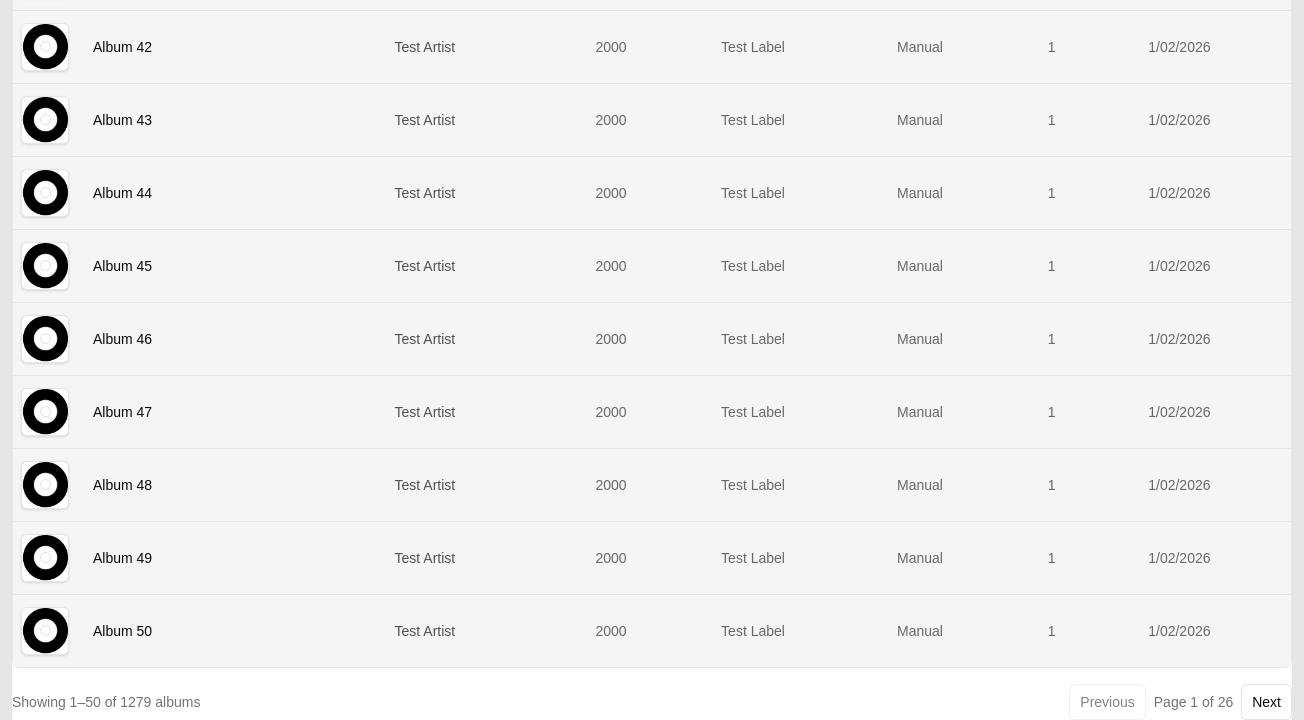
Scenario: AlbumTable › keeps large-library load, search results, scrolling, and mobile rendering within 50 items
The width and height of the screenshot is (1304, 720).
(page scrolled)
expect the text "Showing 1–50 of 1279 albums" is shown: met, box [12, 692, 200, 712]
What coordinates should you click on to do the following:
click the button "Next"
I would click on:
 (1267, 702)
Its box is [1241, 684, 1292, 719].
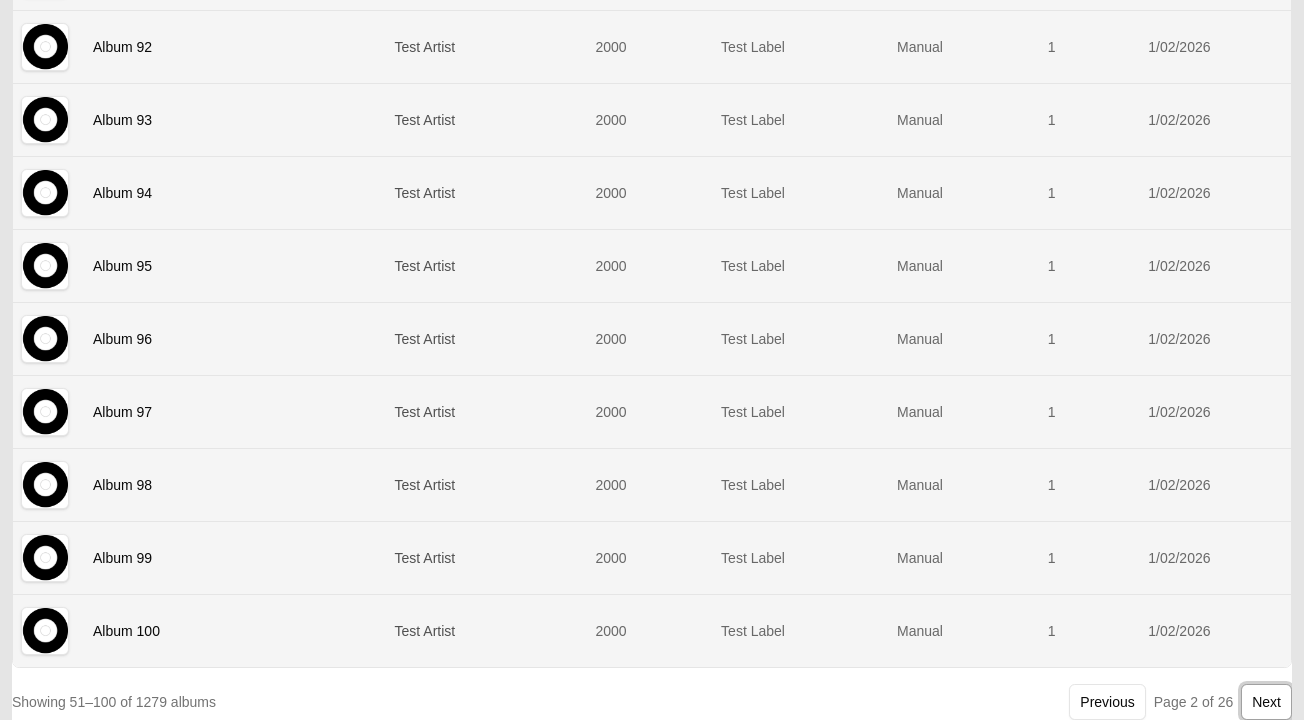
expect the text "Showing 51–100 of 1279 albums" is shown: met, box [12, 692, 216, 712]
